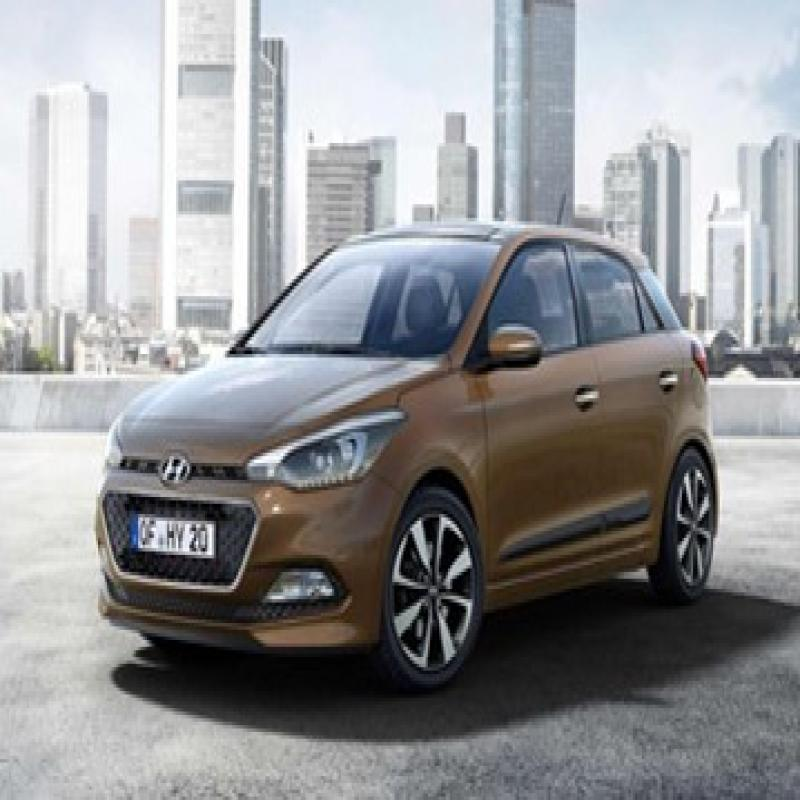car: (96, 201, 727, 644)
